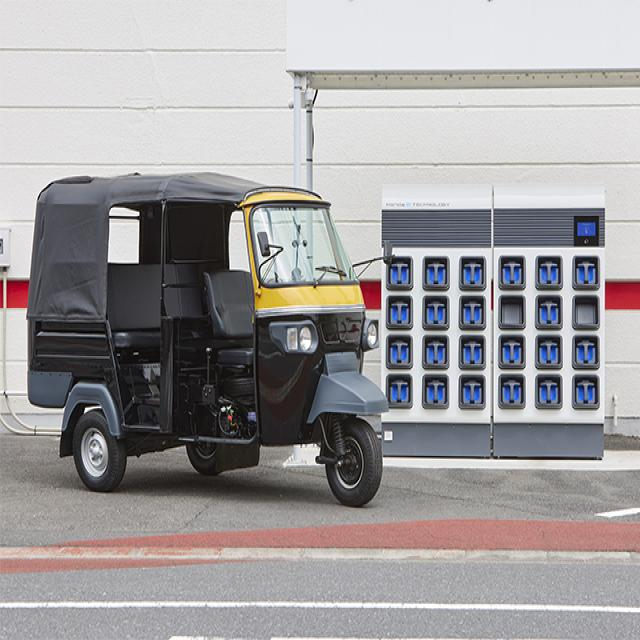autorickshaw: (28, 173, 388, 505)
